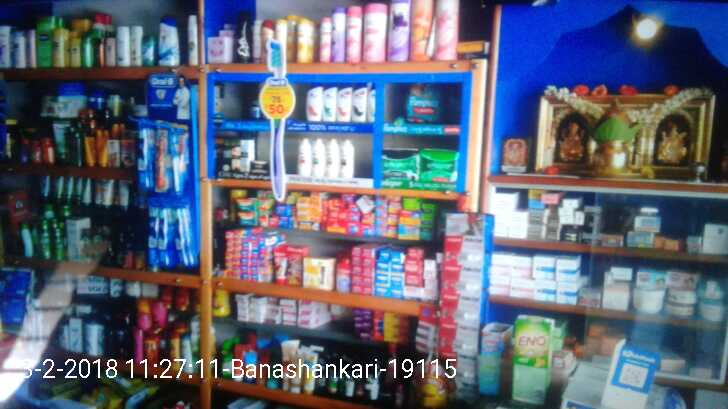beauty: (302, 85, 322, 121), (324, 138, 340, 180), (352, 83, 368, 123), (341, 136, 355, 181), (293, 136, 309, 175), (309, 137, 324, 178), (322, 81, 337, 121), (337, 85, 352, 121), (236, 140, 251, 171), (254, 157, 270, 176)
pharmacy: (171, 205, 196, 269), (402, 82, 441, 123), (418, 148, 458, 185), (376, 147, 416, 182), (166, 127, 185, 194), (137, 120, 153, 189), (146, 206, 160, 261), (155, 126, 166, 192), (159, 208, 171, 267), (250, 97, 266, 120)
